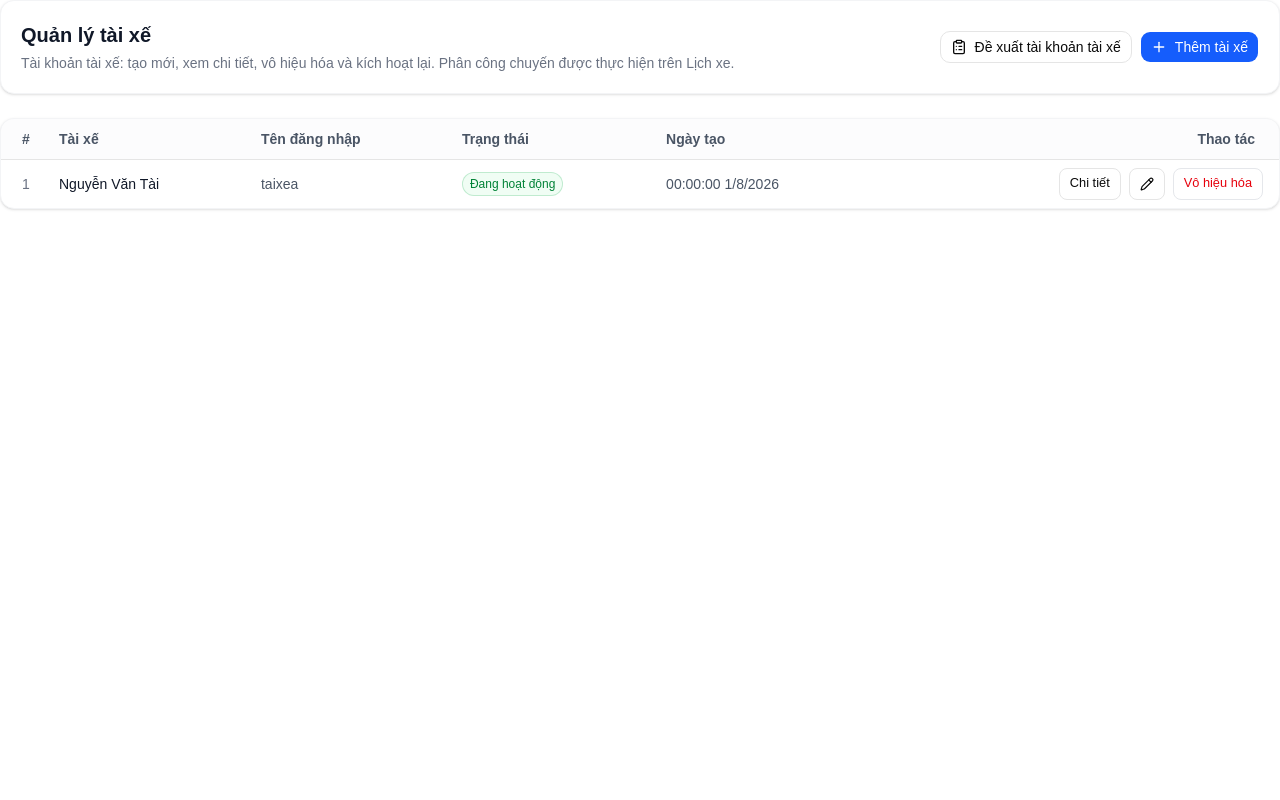
Test: DriverManagementPage › creating a driver › ★ never offers the employee kind, and comes back as a driver dialog on every open
Check: the text "Nguyễn Văn Tài" is shown, box [51,159,253,208]
Click the button "Thêm tài xế". click: (1199, 47)
box: [1140,31,1259,63]
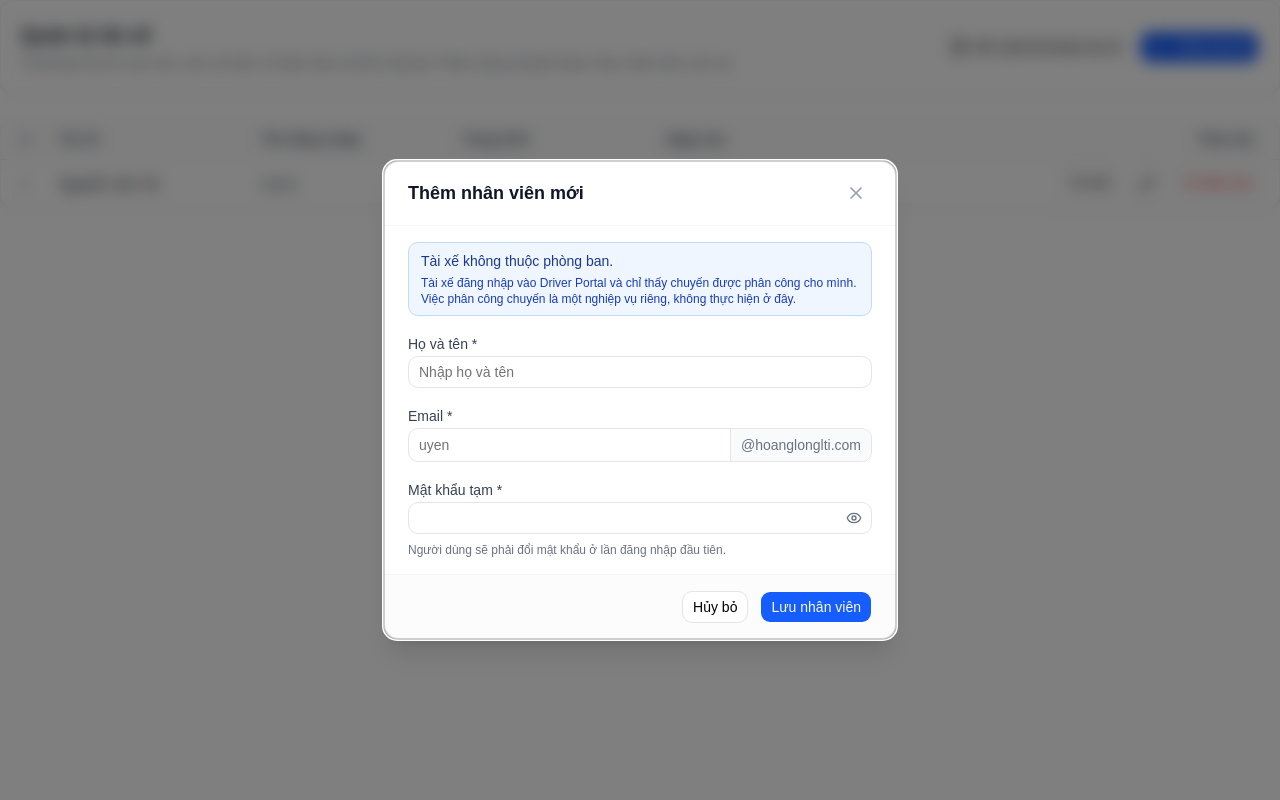
Type "Bỏ dở" into the field labelled "Họ và tên *". click: (640, 372)
box: [408,356,872,388]
Click the button "Hủy bỏ". click: (715, 607)
box: [682,591,748,623]
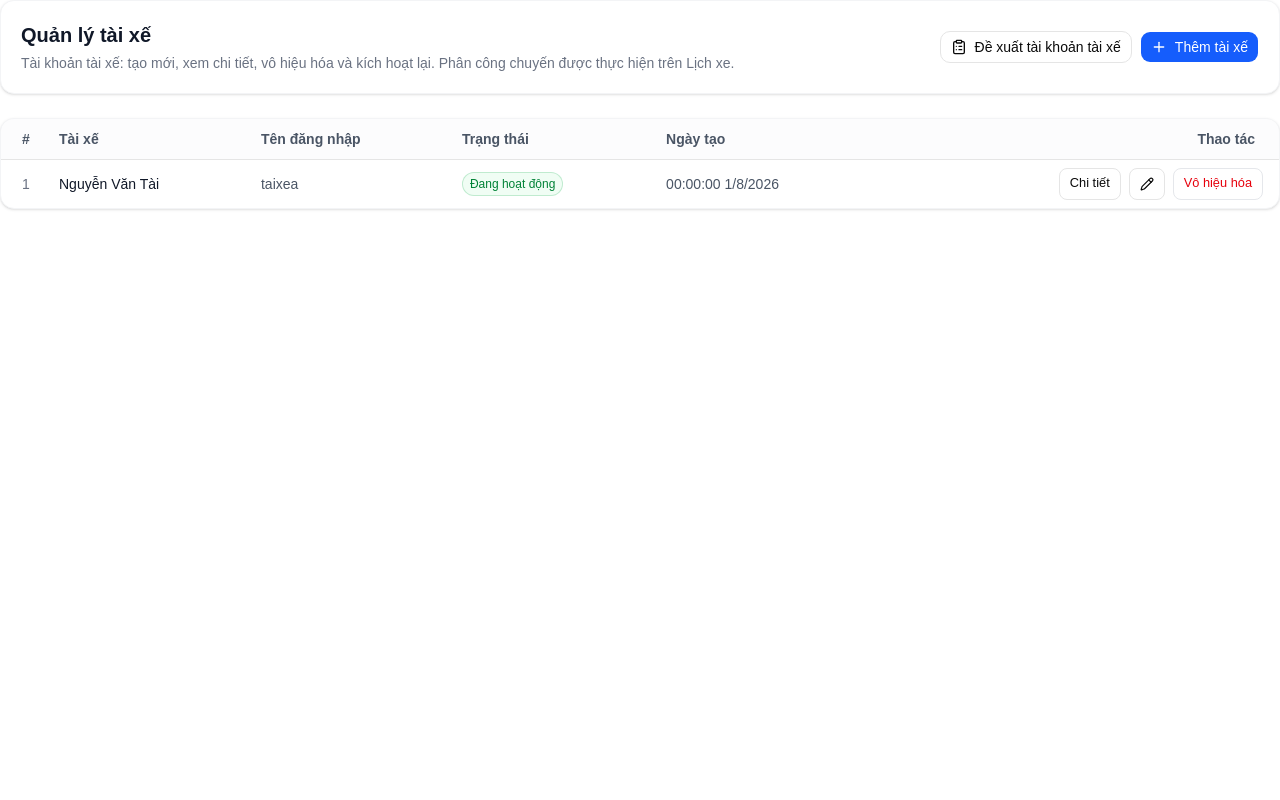
Check: the dialog is gone
Note: Second visit: fresh, and still a driver dialog.
Click the button "Thêm tài xế". click: (1199, 47)
box: [1140,31,1259,63]
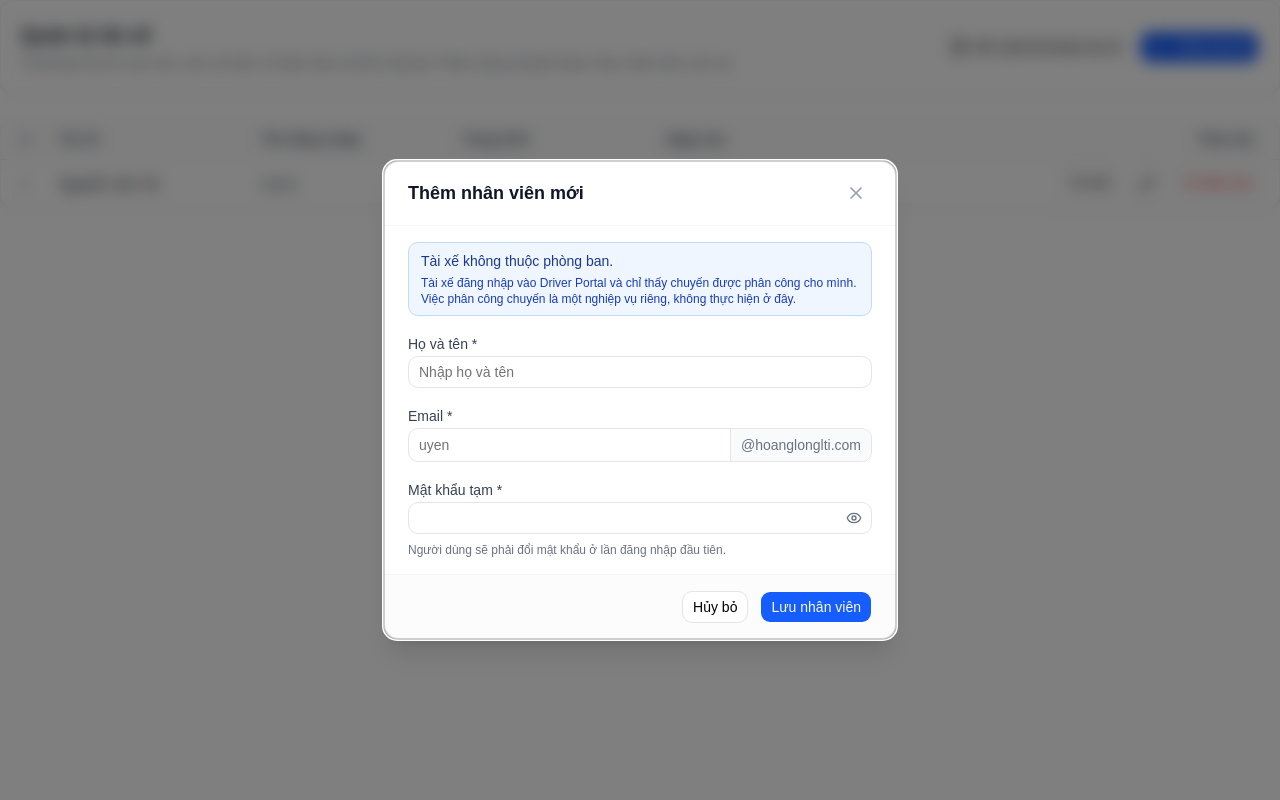
Check: the field labelled "Họ và tên *" is empty
Type "Lê Văn Mới" into the field labelled "Họ và tên *". click: (640, 372)
box: [408,356,872,388]
Type "levanmoi" into the field labelled "Email *". click: (569, 445)
box: [409,429,730,461]
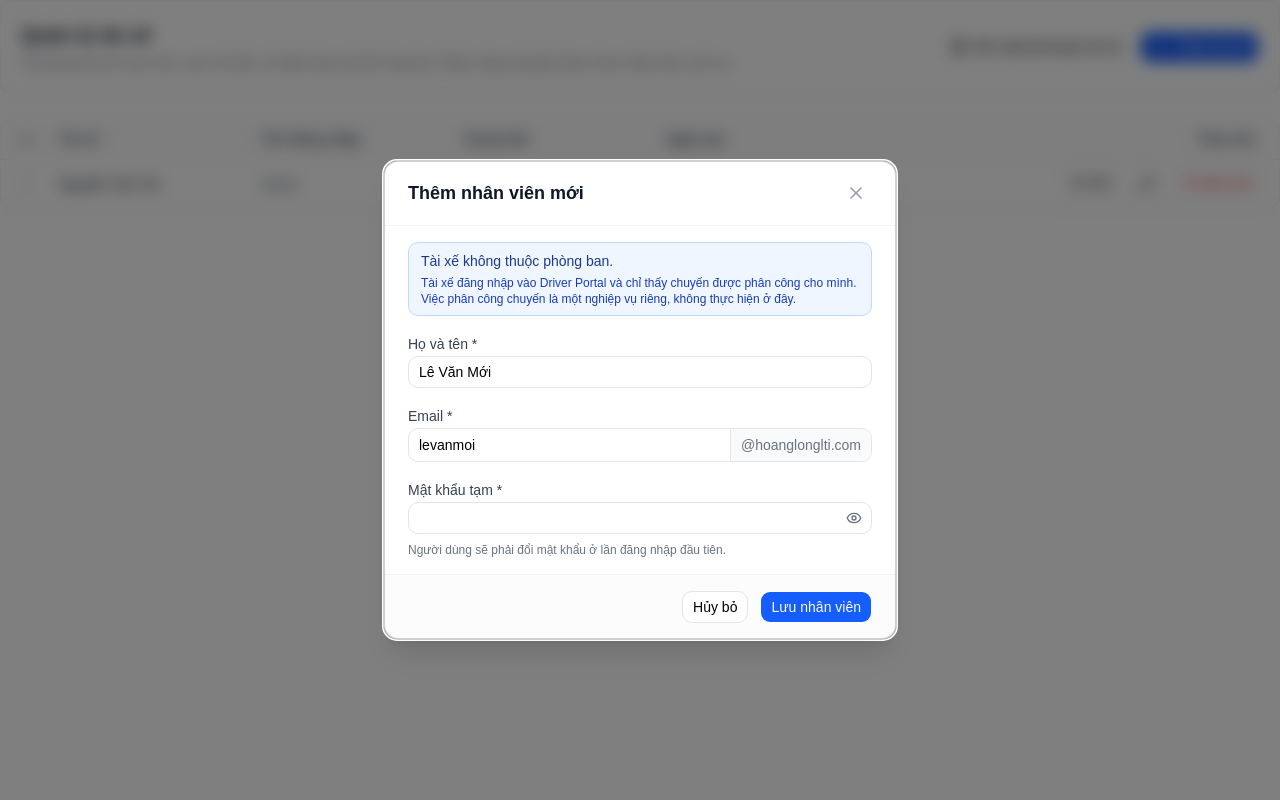
Type "Tam-2026!" into the password field labelled "Mật khẩu tạm *". click: (640, 518)
box: [408,502,872,534]
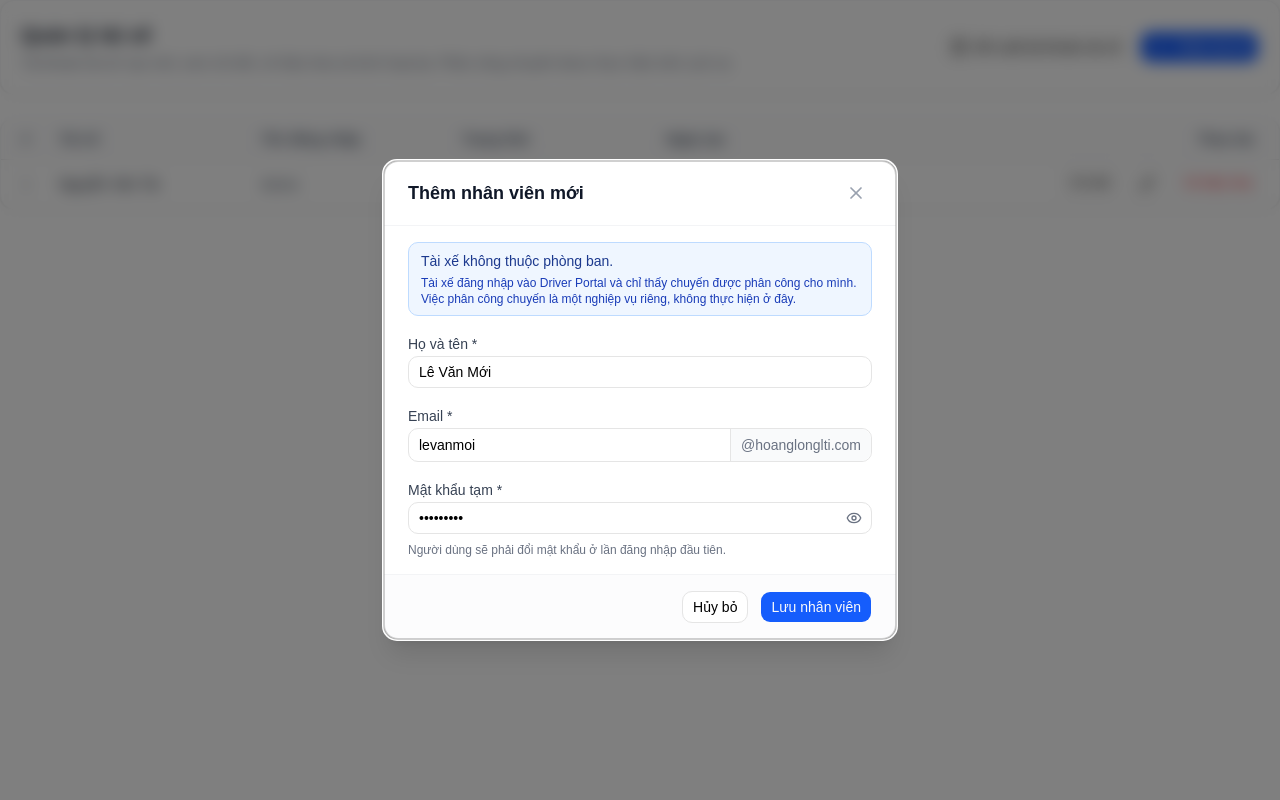
Click the button "Lưu nhân viên". click: (816, 607)
box: [760,591,872,623]
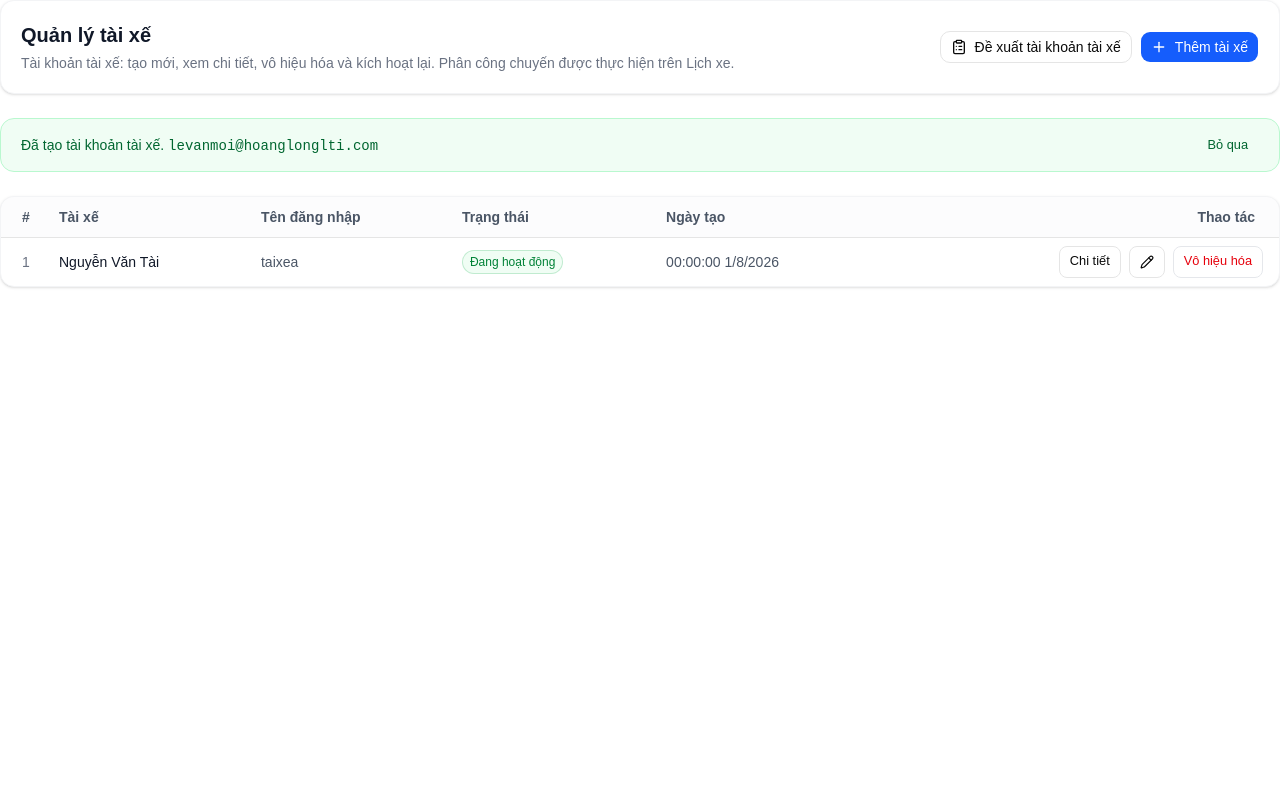
Check: the element showing "Đã tạo tài khoản tài xế. levanmoi@hoanglonglti.com Bỏ qua" is shown, box [0,118,1279,172]
